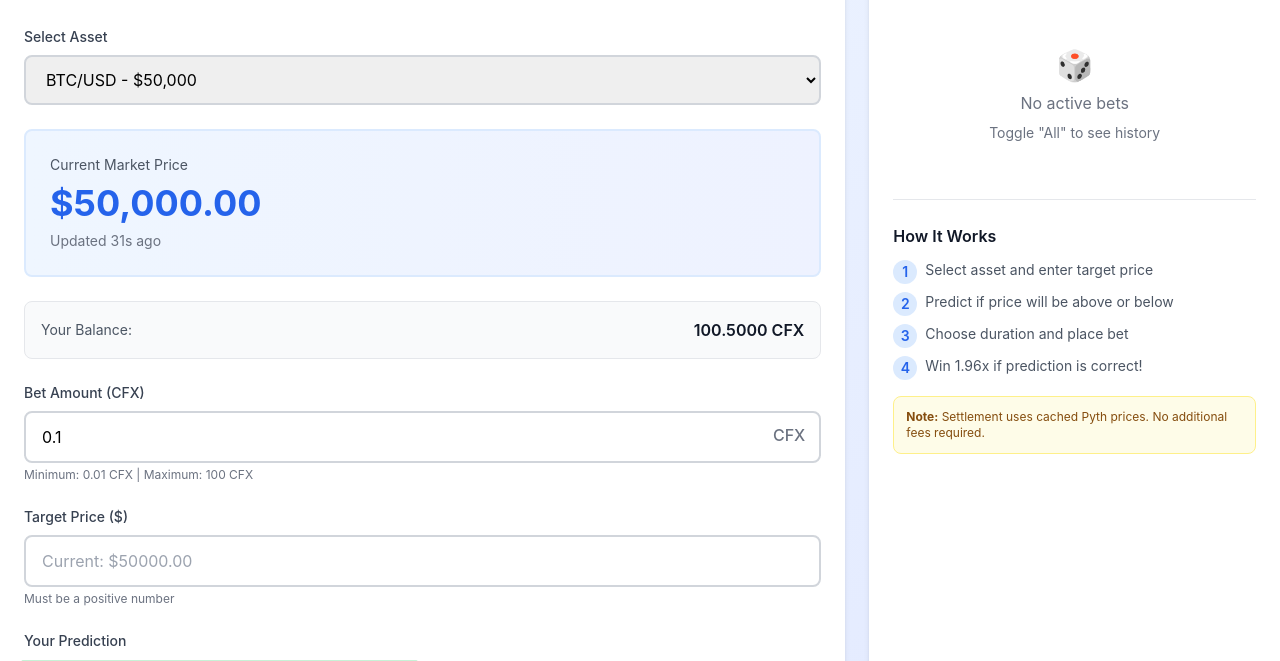
Test: BettingInterface Component › Bet Summary › shows selected asset in summary
Type "55000" into the number field with placeholder "Current: $50000.00".
click(423, 561); type("55000")  # box [24,535,821,587]
(page scrolled)
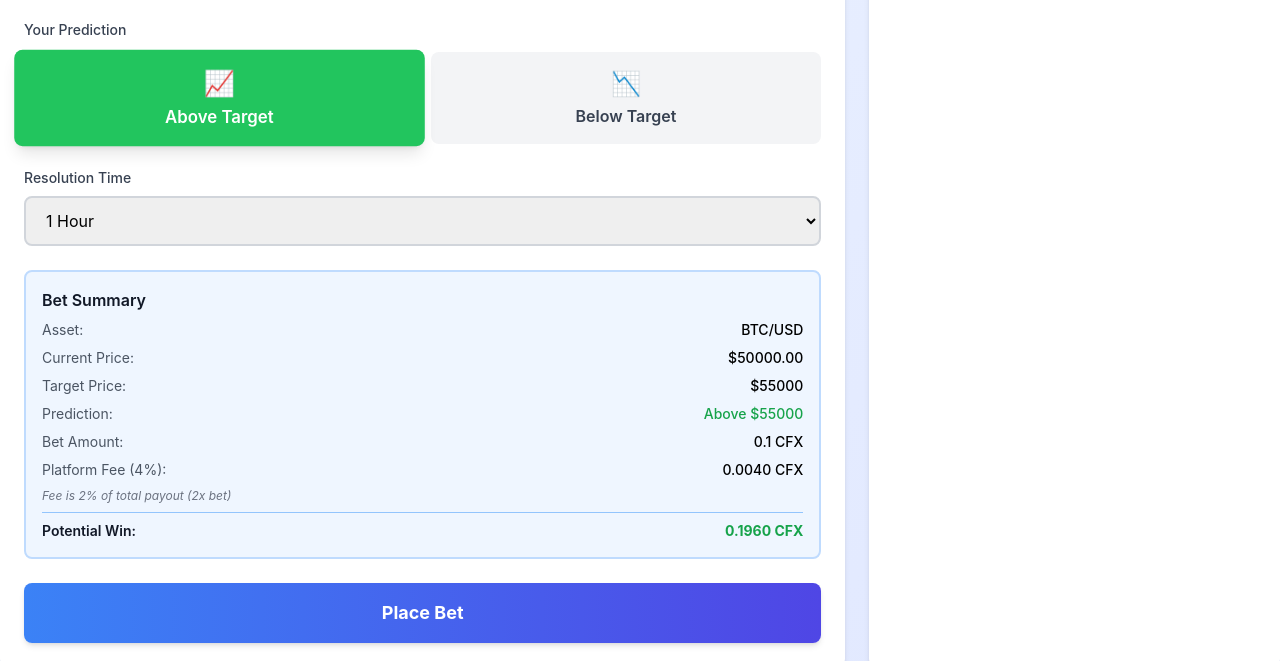
Expected: the text "Bet Summary" shows "BTC", [741,321,769,338]
